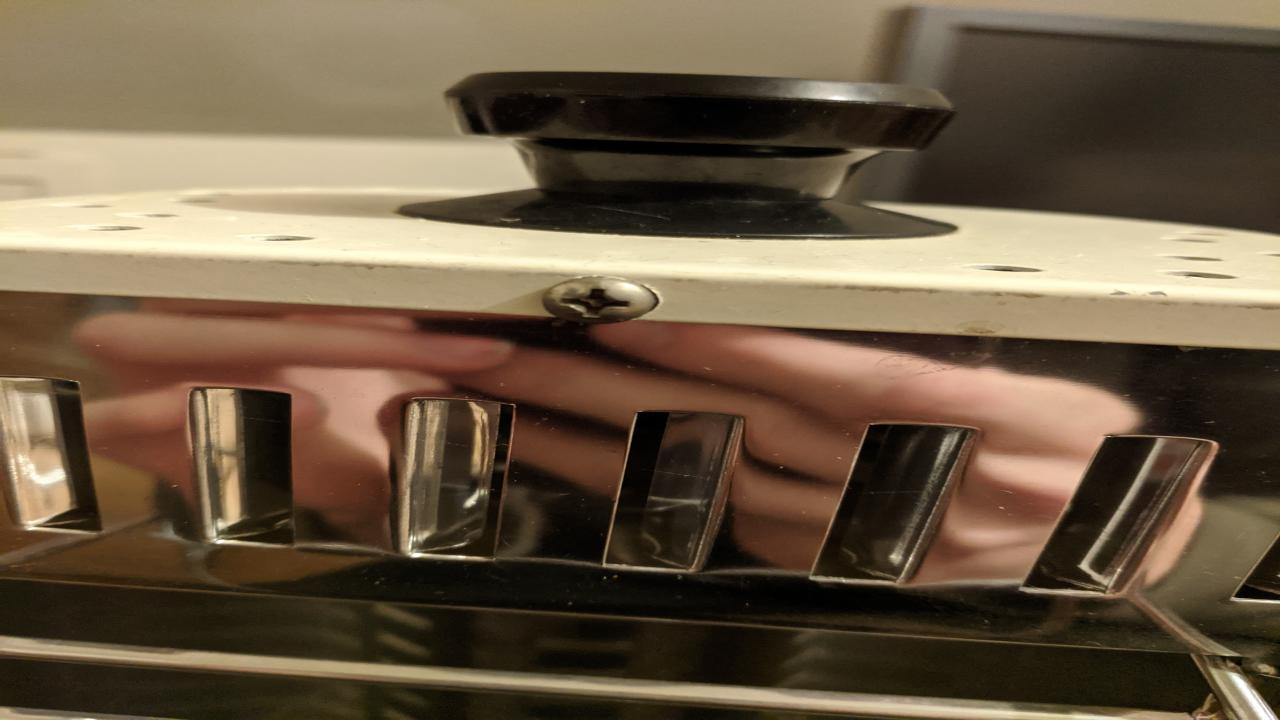CRS: (547, 276, 658, 324)
